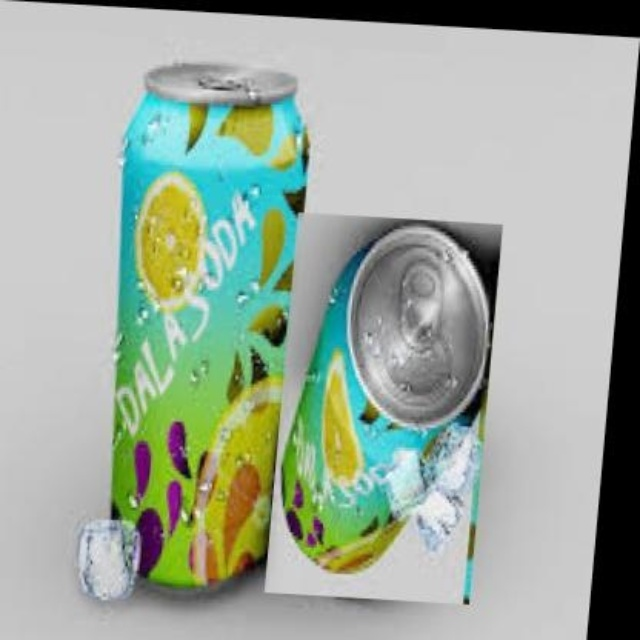trash: (80, 63, 306, 595), (282, 225, 494, 572)
